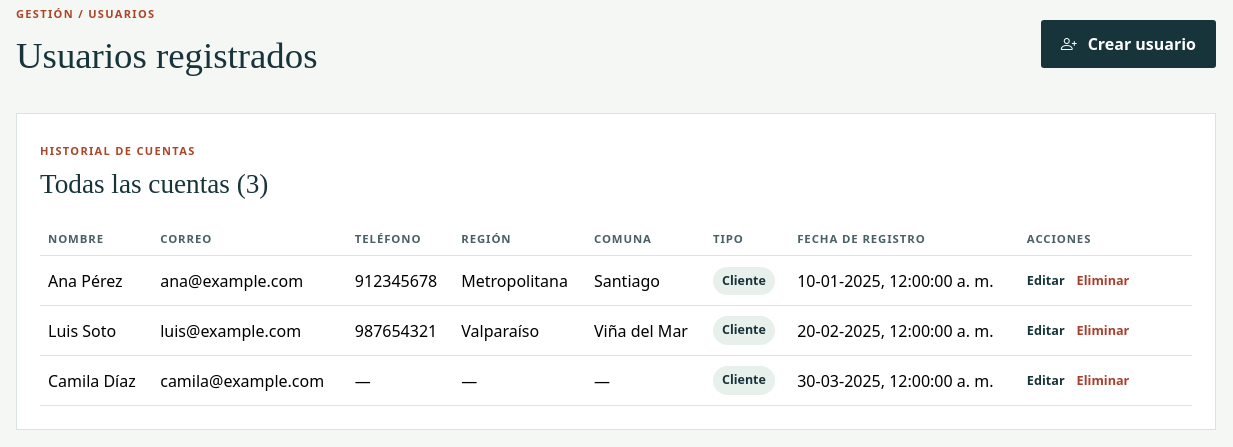
Scenario: AdminUsersPage › pide confirmación inline antes de eliminar y retira el usuario
Click the button "Eliminar" in the row of "Ana Pérez".
click(1103, 281)  # box [1077, 264, 1129, 297]
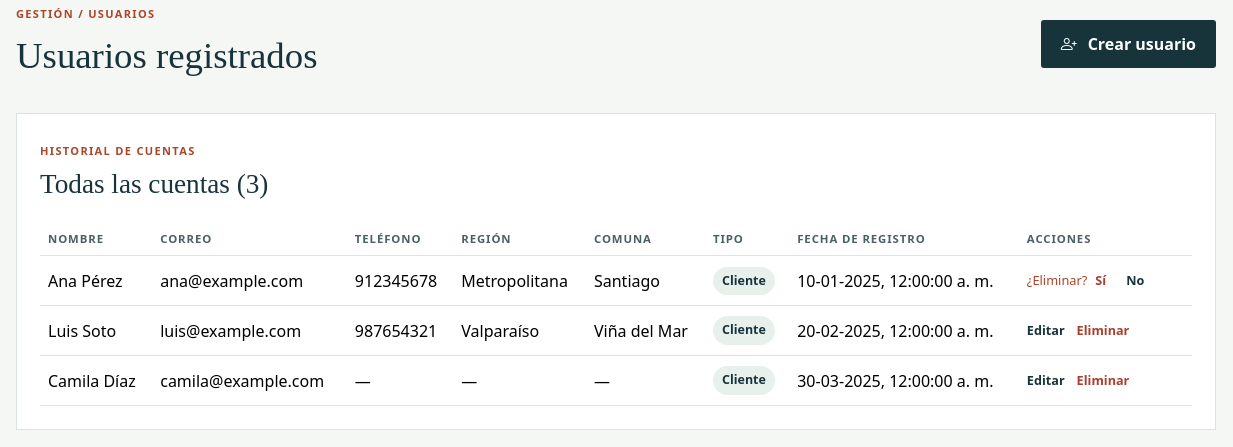
Click the button "Sí".
click(1101, 281)  # box [1095, 264, 1106, 297]
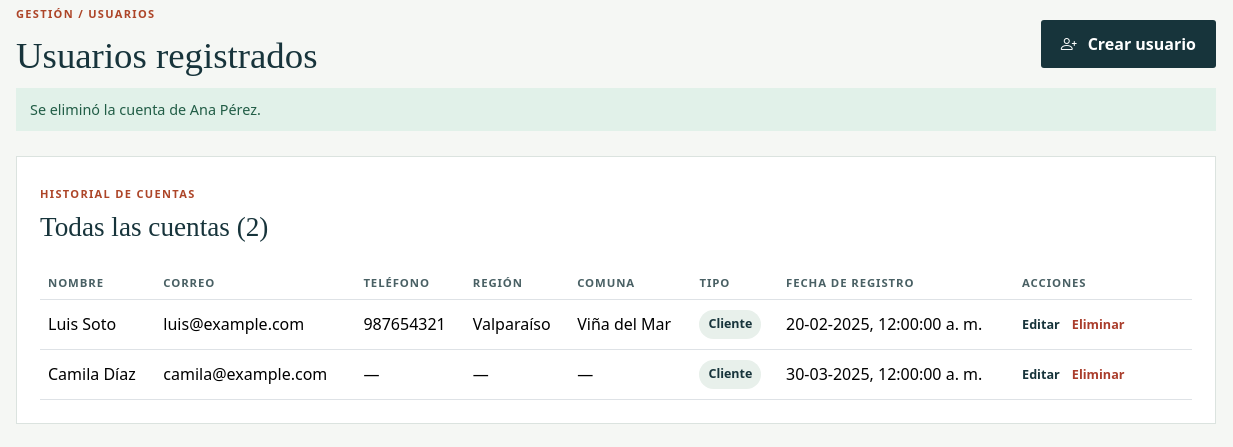
Expected: the text "Se eliminó la cuenta de Ana Pérez." is shown, [16, 88, 1216, 131]
Expected: the text "ana@example.com" is gone
